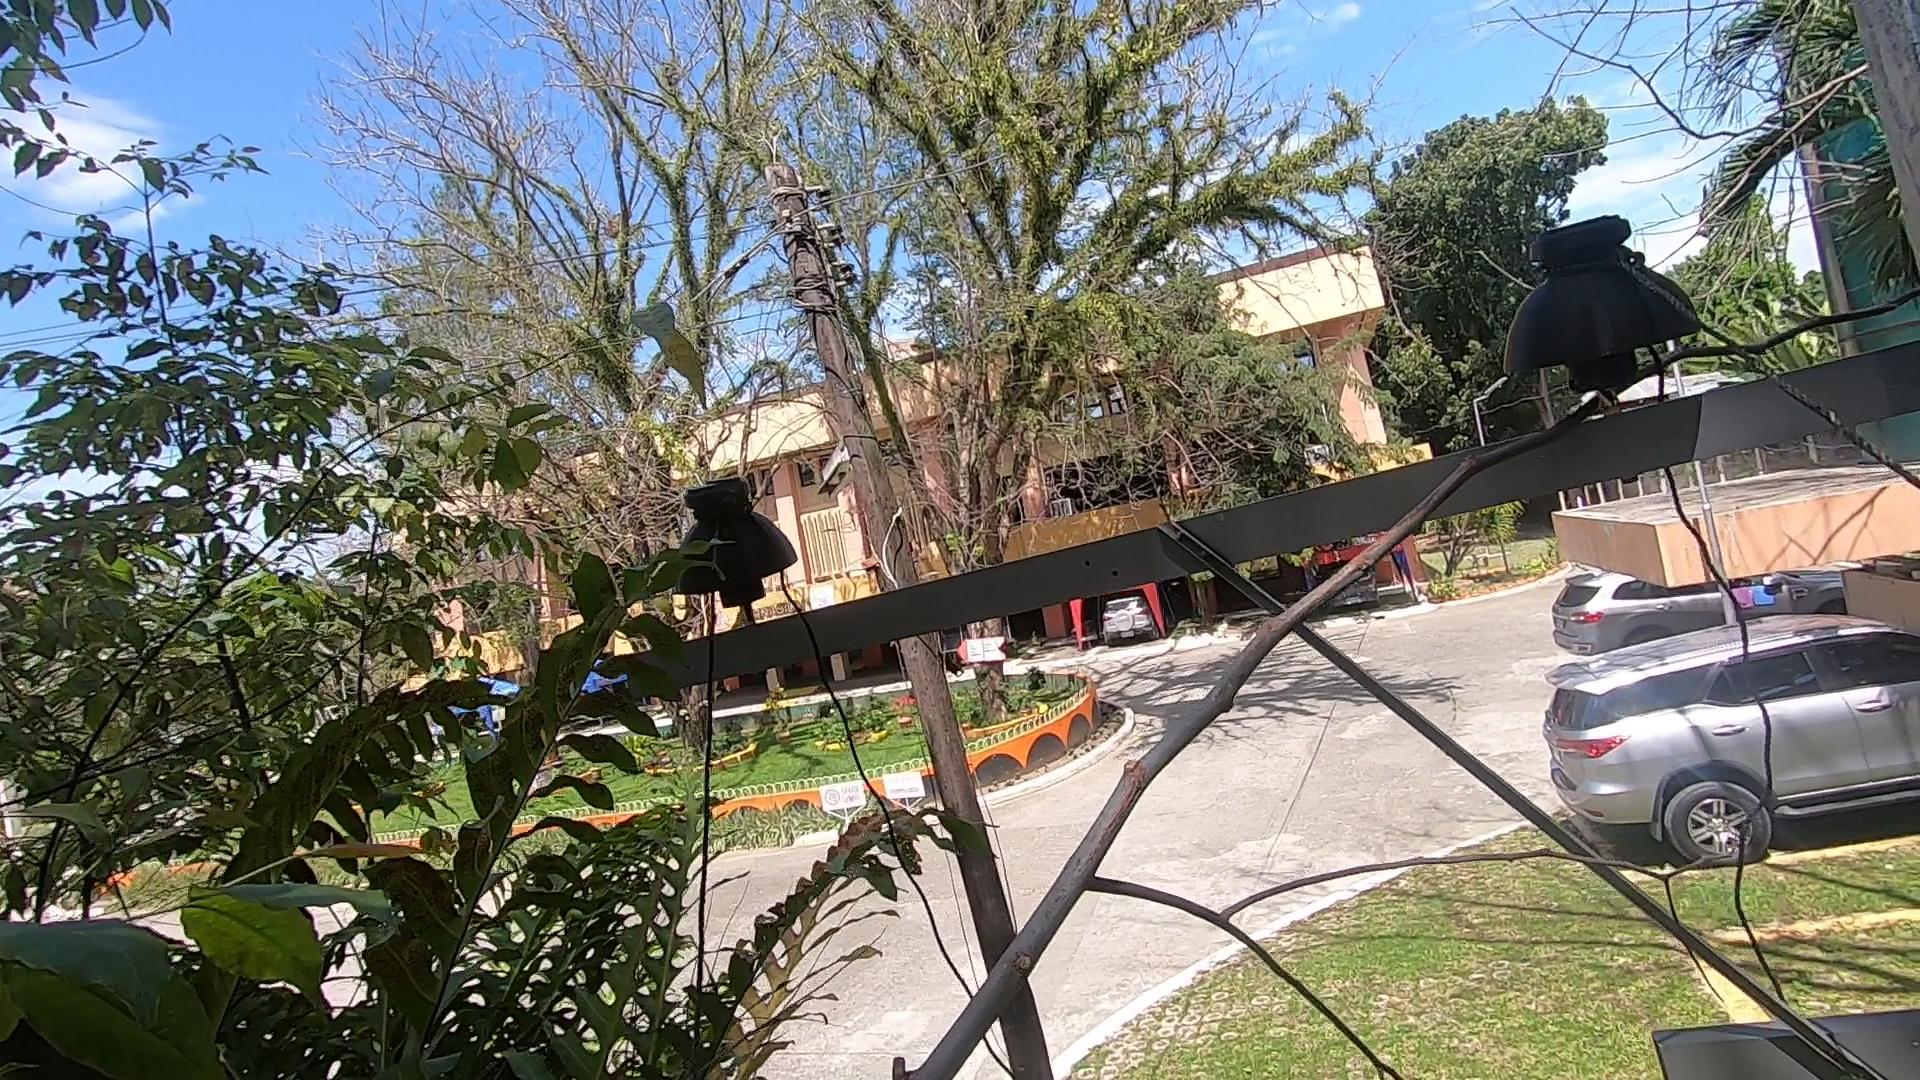tree branch: (866, 260, 1904, 1052)
